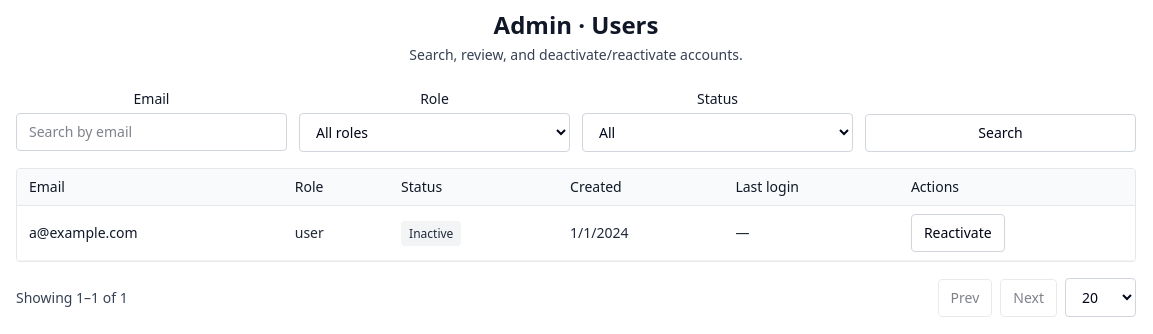
it: AdminUsersPage › reactivates inactive user and refreshes list
Expected: the button "a@example.com" is shown, top-left (29, 223), bottom-right (138, 243)
Click the button "Reactivate": click(958, 233) top-left (911, 214), bottom-right (1005, 252)
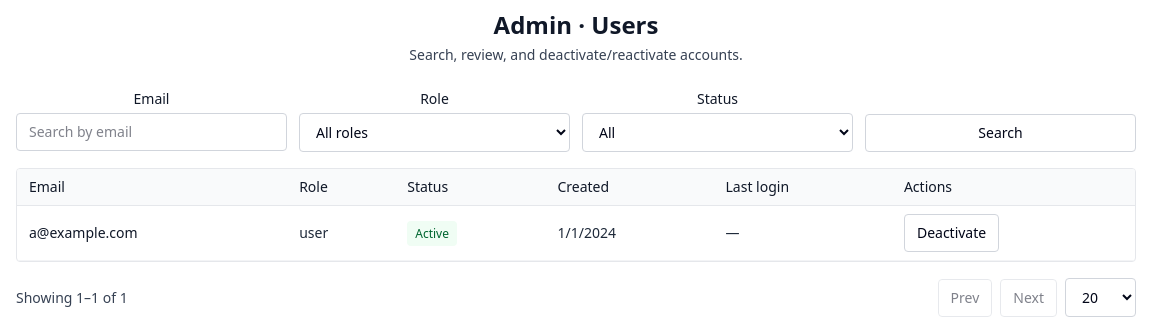
Now the button "Deactivate" is shown, box top-left (904, 214), bottom-right (999, 252)
